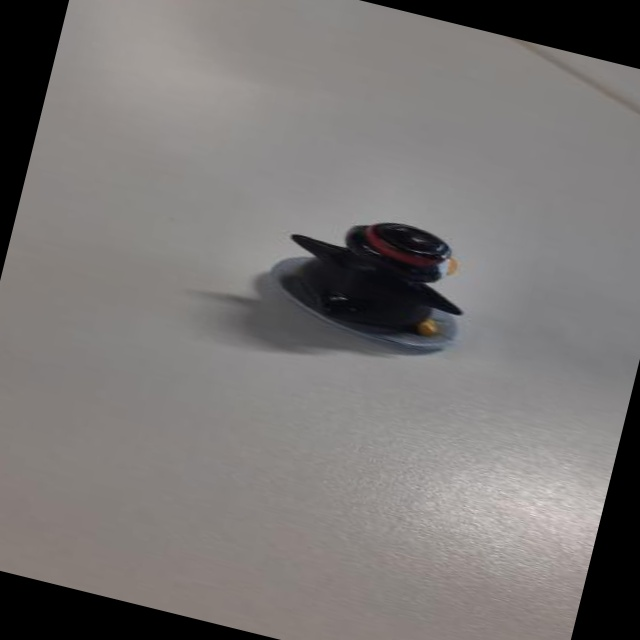Penguin: (261, 192, 481, 370)
